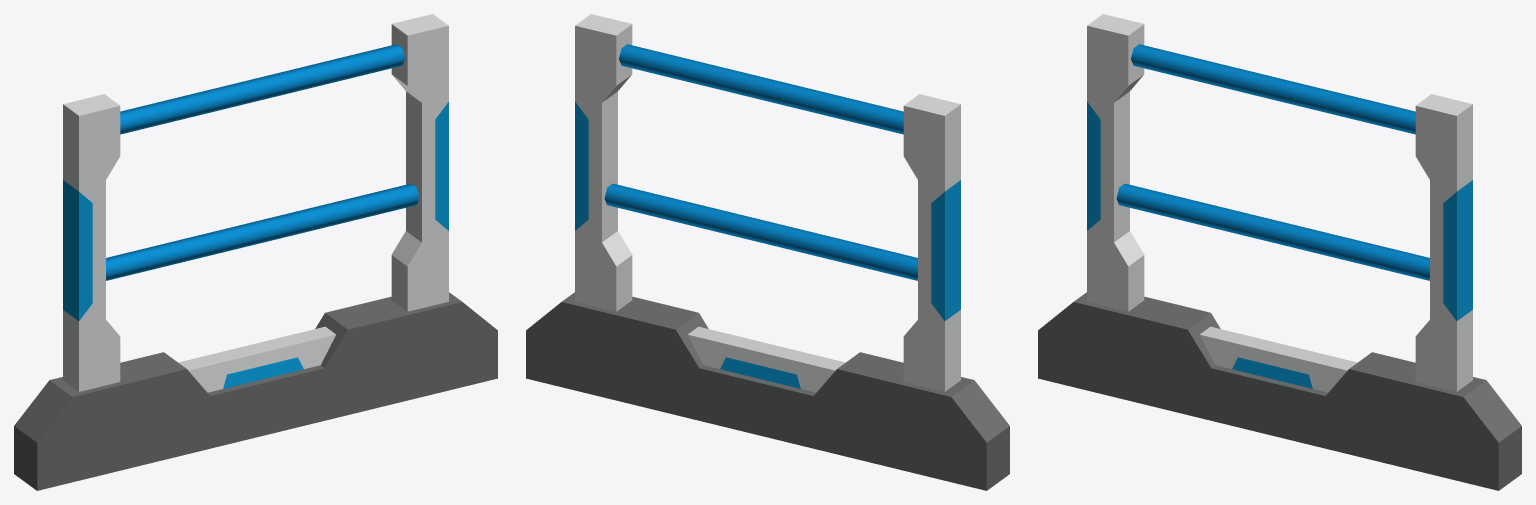
Rendered from Fence_type_A_007.fbx.
3 views of the same model, side by side, from view 1: azimuth 30°, elevation 25°; view 2: azimuth 150°, elevation 25°; view 3: azimuth 330°, elevation 25° (orthographic).
Visible parts, largest first — view 1: Fence_type_A_007; view 2: Fence_type_A_007; view 3: Fence_type_A_007.
Boxes of the visible parts, x1,y1,x2,y2 form: Fence_type_A_007: [14, 14, 497, 490]; Fence_type_A_007: [526, 14, 1009, 490]; Fence_type_A_007: [1038, 14, 1521, 490].
Size of the model in its own units: 190 by 16.53 by 142.
